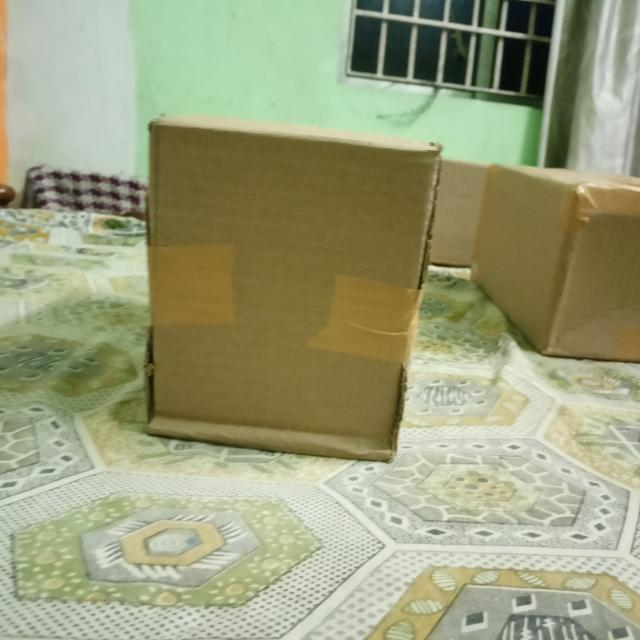box: (146, 124, 445, 460)
